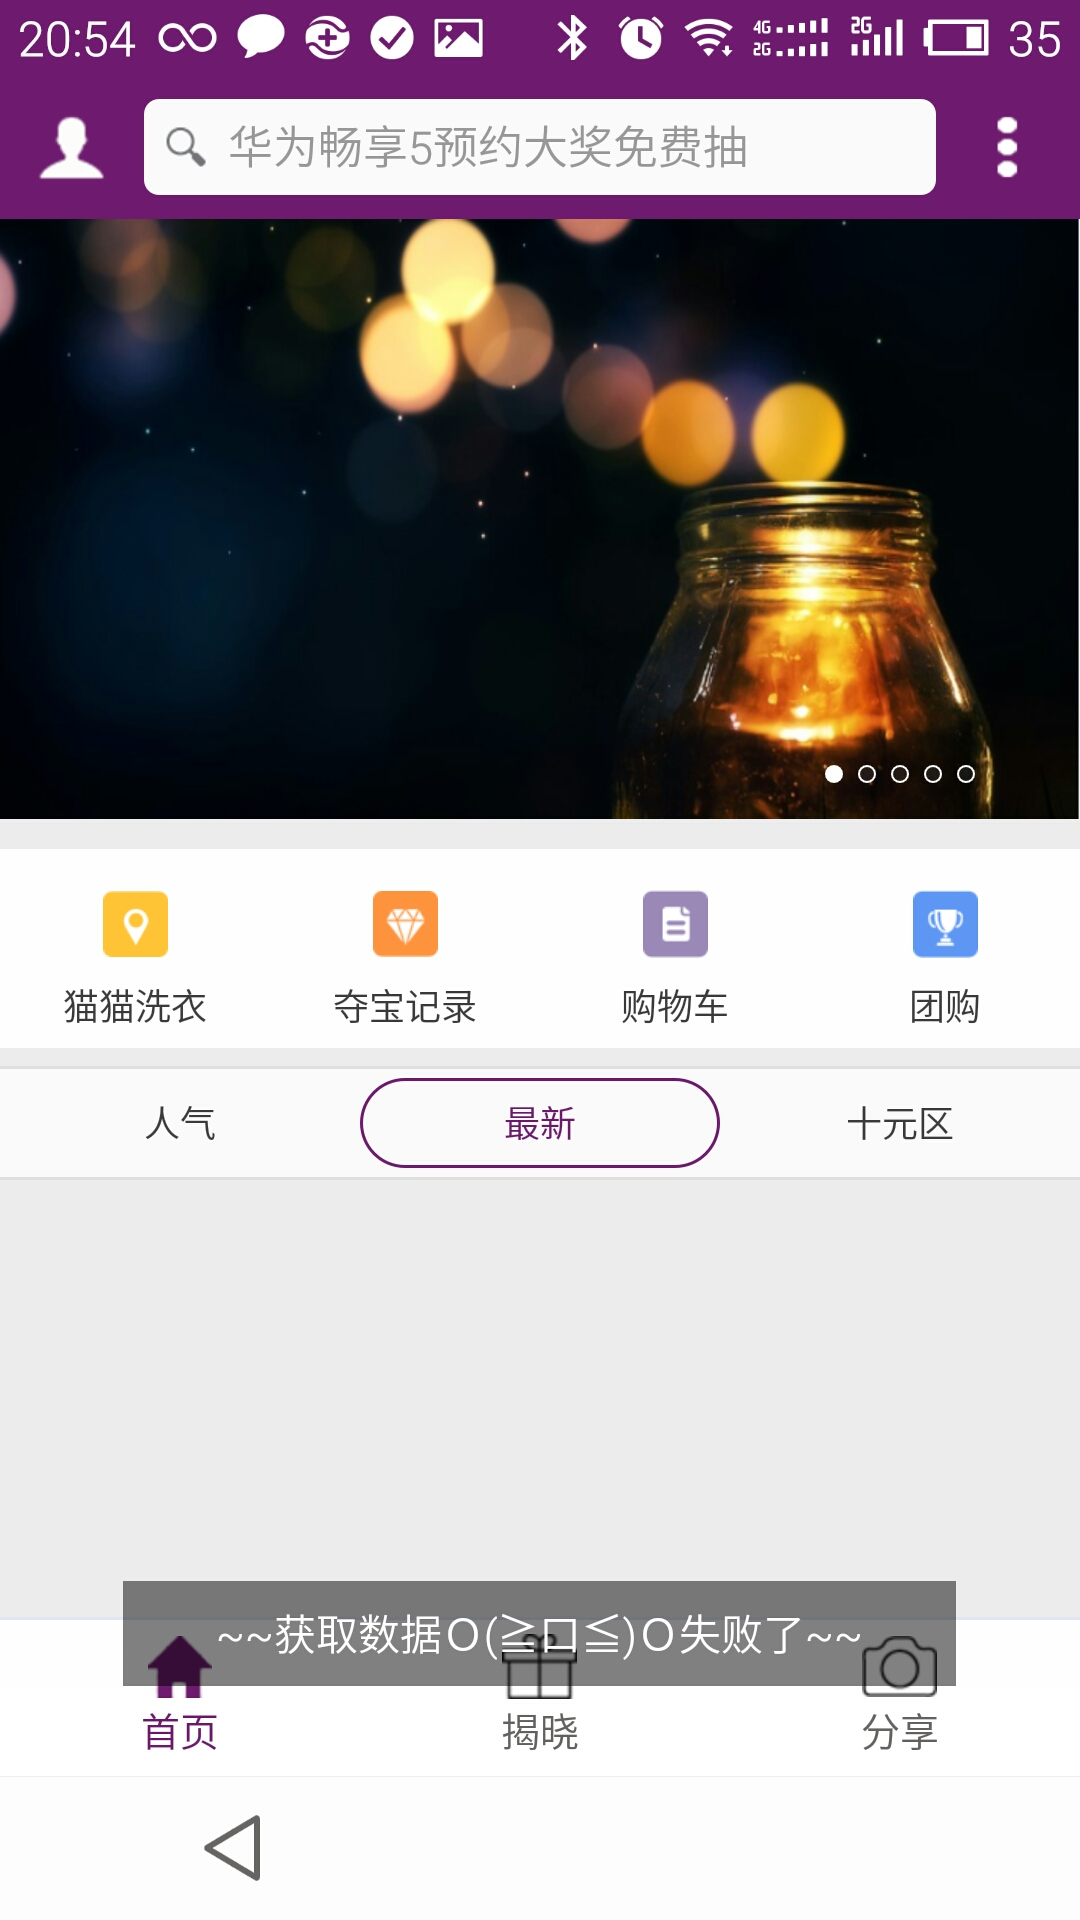alert: (115, 1572, 969, 1695)
nav: (18, 853, 1080, 1048), (21, 1626, 1080, 1772), (32, 1069, 1080, 1168)
